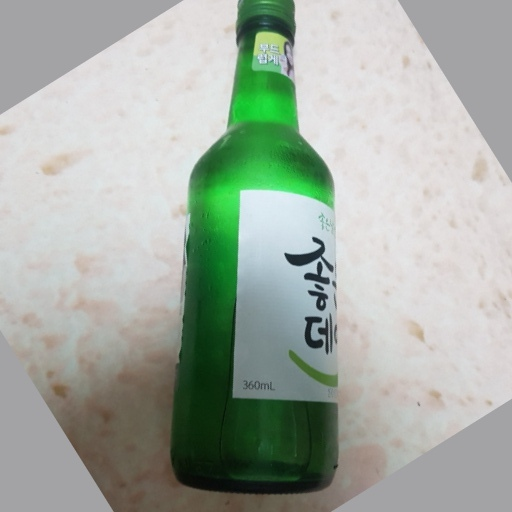Glass_0: (165, 1, 348, 495)
